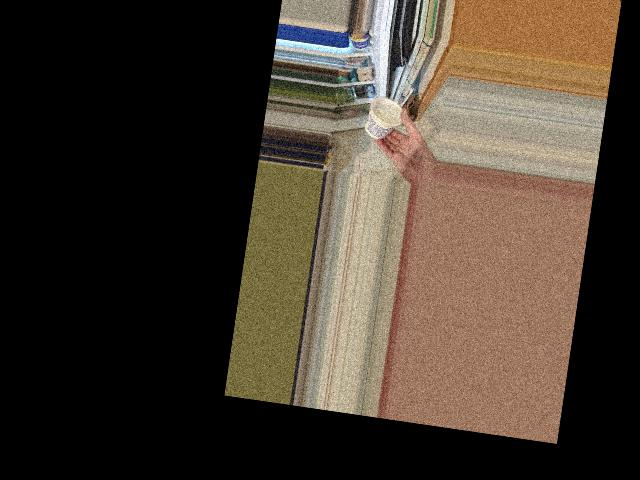cotage: (366, 95, 404, 141)
